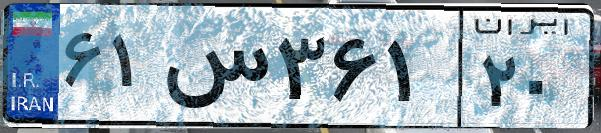0: (525, 38, 570, 115)
1: (385, 28, 445, 110), (110, 28, 158, 98)
2: (475, 38, 525, 113)
3: (270, 28, 330, 110)
6: (330, 28, 385, 110), (57, 26, 110, 100)
س: (158, 20, 270, 120)
